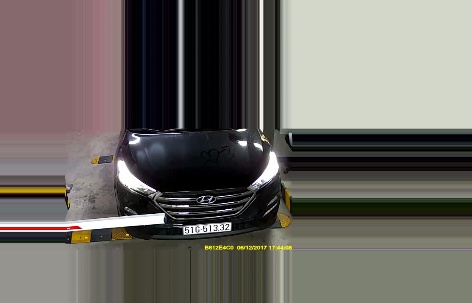plate: (183, 222, 232, 237)
